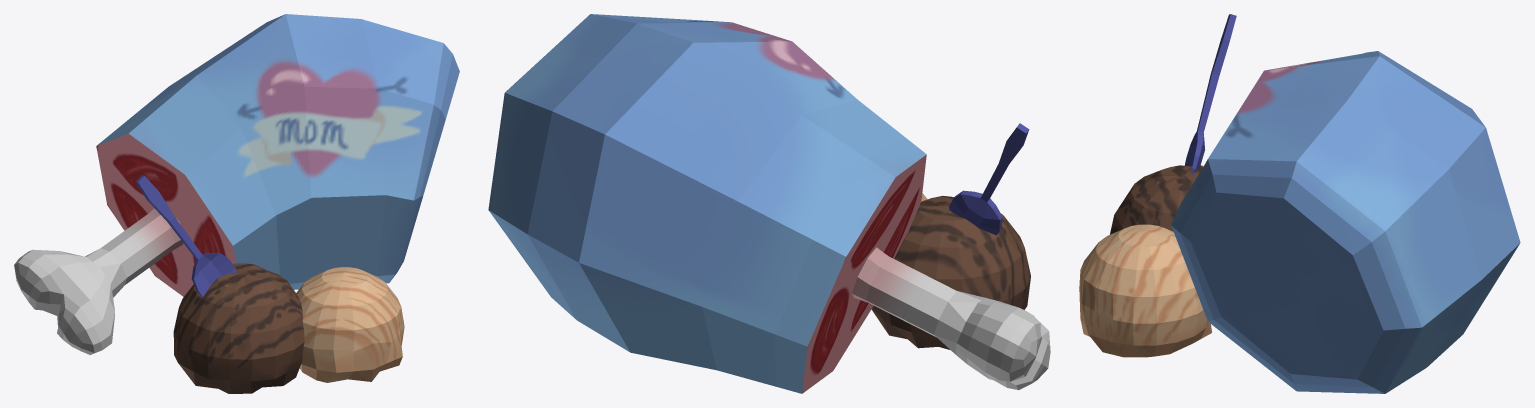
File: Recipe_coldshoulder_v04.fbx
The picture shows the model from 3 angles, left to right: view 1: azimuth 30°, elevation 25°; view 2: azimuth 150°, elevation 25°; view 3: azimuth 270°, elevation 25°; orthographic projection. The views are drawn at different scales.
Visible parts, largest first — view 1: Shoulder + Bone, Icecream01, Icecream02, Spoon; view 2: Shoulder + Bone, Icecream01, Spoon; view 3: Shoulder + Bone, Icecream02, Icecream01, Spoon.
Boxes of the visible parts, bbox=[...] form: Shoulder + Bone: bbox=[14, 14, 459, 354]; Icecream01: bbox=[173, 263, 304, 393]; Icecream02: bbox=[296, 267, 404, 382]; Spoon: bbox=[135, 175, 236, 296]; Shoulder + Bone: bbox=[488, 14, 1050, 393]; Icecream01: bbox=[871, 196, 1030, 349]; Spoon: bbox=[949, 123, 1029, 235]; Shoulder + Bone: bbox=[1171, 51, 1520, 393]; Icecream02: bbox=[1079, 224, 1211, 357]; Icecream01: bbox=[1110, 165, 1203, 234]; Spoon: bbox=[1184, 14, 1236, 173].
Size of the model in its own units: 38.75 by 22.61 by 29.68.
